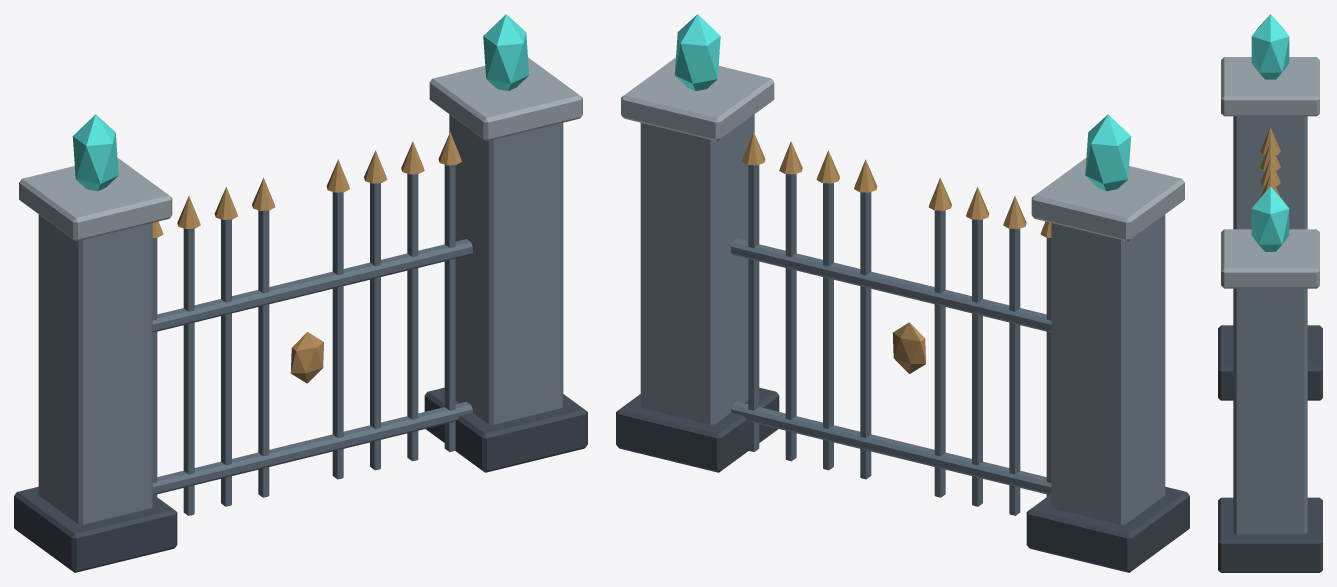
The model's file is L01R_Gate.fbx.
3 renders of one model, left to right at view 1: azimuth 30°, elevation 25°; view 2: azimuth 150°, elevation 25°; view 3: azimuth 270°, elevation 25°, orthographic. The views are drawn at different scales.
Parts seen in each view (by area): view 1: L01R_Gate; view 2: L01R_Gate; view 3: L01R_Gate.
Boxes of the visible parts, <box> form: L01R_Gate: <box>14,14,587,572</box>; L01R_Gate: <box>616,14,1189,572</box>; L01R_Gate: <box>1218,14,1322,572</box>.
Size of the model in its own units: 415 by 327 by 85.
